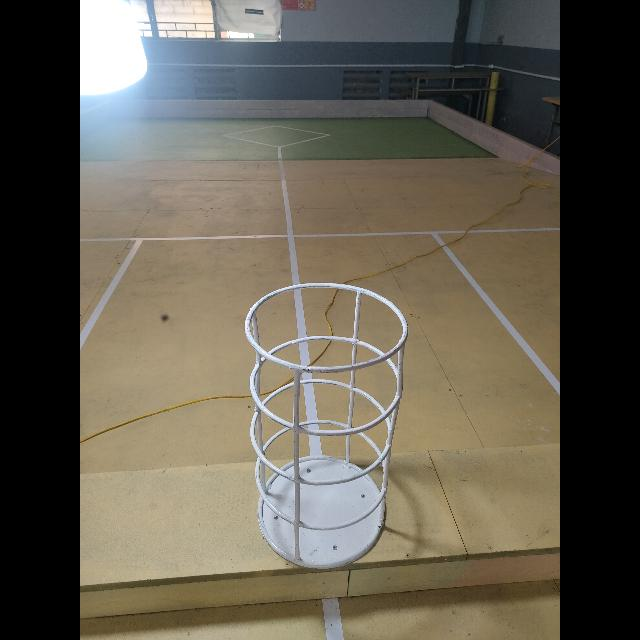S: (243, 278, 414, 573)
